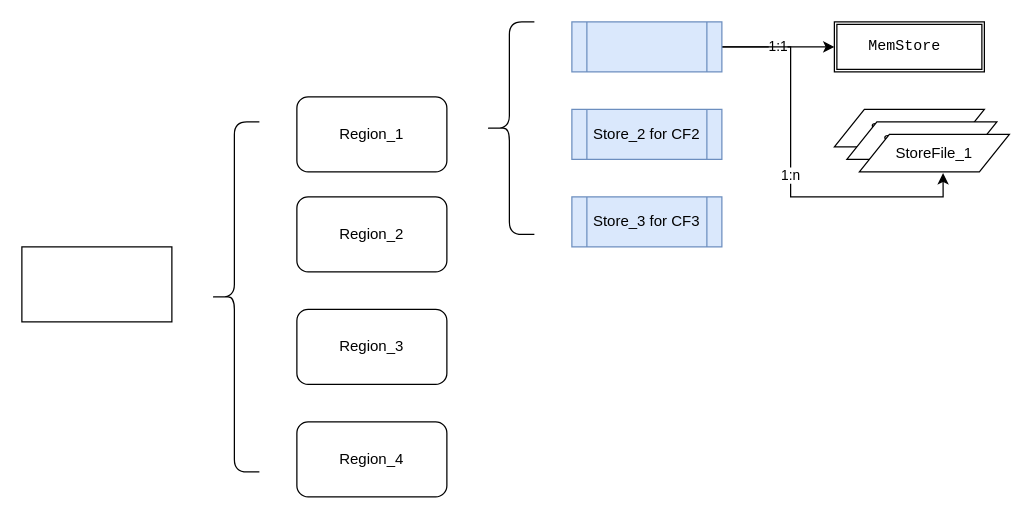
Some shapes in this 1031 by 519 pixel diagram are drawn without their labels. Each missing label, with the centre of its shape:
"HTable" belongs at [96,284].
"Store_1 for CF1" belongs at [646,46].
